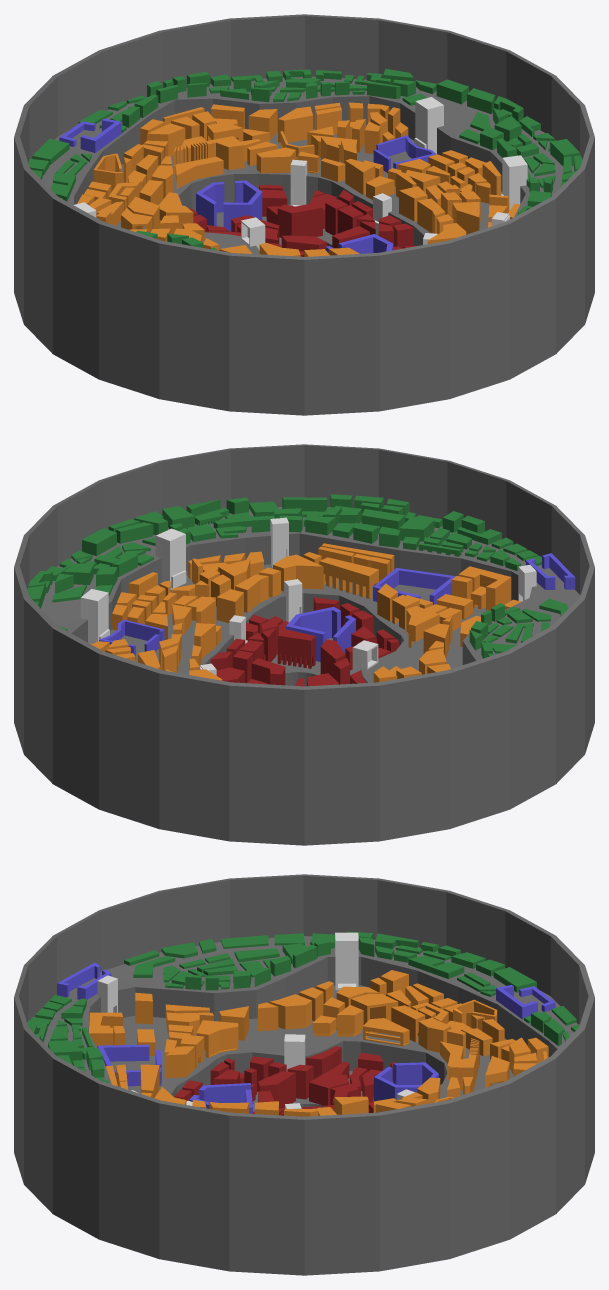
The model's file is P_JPO_Bowl_V4.fbx.
The picture shows the model from 3 angles, top to bottom: view 1: azimuth 30°, elevation 25°; view 2: azimuth 150°, elevation 25°; view 3: azimuth 270°, elevation 25°; orthographic projection.
Parts seen in each view (by area): view 1: M_New_Bowl, M_Hearts, M_Elevator, M_Buildings_Third_Floor.026, M_Buildings_Second_Floor.043, M_Buildings_Second_Floor.063, M_Buildings_Second_Floor.046, M_Buildings_Second_Floor.052, M_Buildings_Second_Floor.047, M_Buildings_Second_Floor.021, M_Buildings_Second_Floor.050, M_Buildings_Second_Floor.036 (+10 smaller); view 2: M_New_Bowl, M_Elevator, M_Hearts, M_Buildings_Second_Floor.117, M_Buildings_Third_Floor.015, M_Buildings_Second_Floor.001, M_Buildings_Second_Floor.112, M_Buildings_Second_Floor.014, M_Buildings_Second_Floor.111, M_Buildings_Second_Floor.084, M_Buildings_Third_Floor.026, M_Buildings_First_Floor.114 (+12 smaller); view 3: M_New_Bowl, M_Hearts, M_Elevator, M_Buildings_Second_Floor.021, M_Buildings_Second_Floor.014, M_Buildings_Second_Floor.017, M_Buildings_Third_Floor.013, M_Buildings_Second_Floor.025, M_Buildings_Second_Floor.023, M_Buildings_Second_Floor.001, M_Buildings_Second_Floor.013, M_Buildings_Third_Floor.041 (+15 smaller).
Boxes of the visible parts, <box> form: M_New_Bowl: <box>14,14,594,415</box>; M_Hearts: <box>59,118,436,253</box>; M_Elevator: <box>73,97,527,250</box>; M_Buildings_Third_Floor.026: <box>277,202,322,237</box>; M_Buildings_Second_Floor.043: <box>175,156,223,188</box>; M_Buildings_Second_Floor.063: <box>278,106,312,142</box>; M_Buildings_Second_Floor.046: <box>205,136,244,169</box>; M_Buildings_Second_Floor.052: <box>144,123,185,157</box>; M_Buildings_Second_Floor.047: <box>256,147,295,173</box>; M_Buildings_Second_Floor.021: <box>160,205,204,242</box>; M_Buildings_Second_Floor.050: <box>345,158,375,194</box>; M_Buildings_Second_Floor.036: <box>93,153,123,191</box>; M_New_Bowl: <box>14,444,594,845</box>; M_Elevator: <box>80,517,536,675</box>; M_Hearts: <box>99,553,575,661</box>; M_Buildings_Second_Floor.117: <box>319,557,378,599</box>; M_Buildings_Third_Floor.015: <box>277,628,315,668</box>; M_Buildings_Second_Floor.001: <box>458,566,511,610</box>; M_Buildings_Second_Floor.112: <box>273,554,323,591</box>; M_Buildings_Second_Floor.014: <box>406,606,439,647</box>; M_Buildings_Second_Floor.111: <box>235,574,268,612</box>; M_Buildings_Second_Floor.084: <box>216,589,243,622</box>; M_Buildings_Third_Floor.026: <box>251,658,285,685</box>; M_Buildings_First_Floor.114: <box>82,528,116,555</box>; M_New_Bowl: <box>14,874,594,1275</box>; M_Hearts: <box>57,962,555,1113</box>; M_Elevator: <box>97,932,414,1109</box>; M_Buildings_Second_Floor.021: <box>312,997,363,1036</box>; M_Buildings_Second_Floor.014: <box>196,1020,238,1057</box>; M_Buildings_Second_Floor.017: <box>269,994,311,1029</box>; M_Buildings_Third_Floor.013: <box>258,1071,295,1108</box>; M_Buildings_Second_Floor.025: <box>363,1018,409,1046</box>; M_Buildings_Second_Floor.023: <box>351,993,398,1024</box>; M_Buildings_Second_Floor.001: <box>89,1012,122,1047</box>; M_Buildings_Second_Floor.013: <box>165,1046,194,1078</box>; M_Buildings_Third_Floor.041: <box>309,1073,348,1105</box>.
Bounding box in the file's own units: 50400 × 14989 × 50400.
